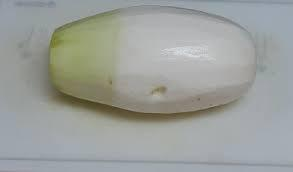radish: (21, 1, 119, 31)
